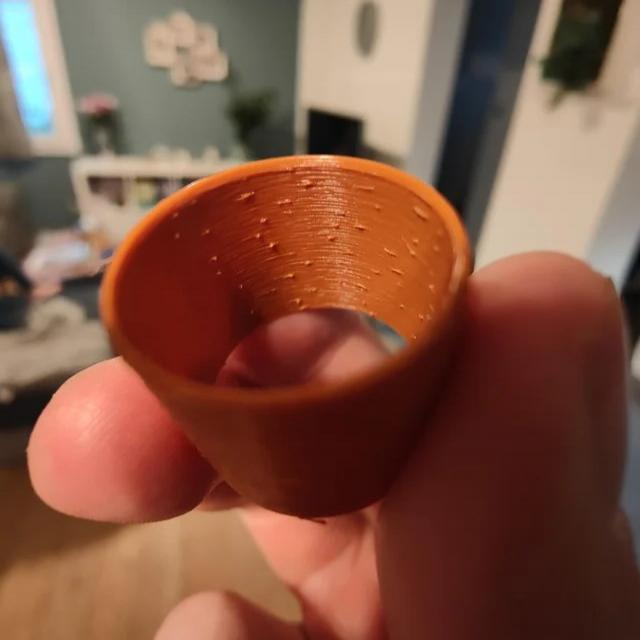zits: (408, 206, 428, 222), (255, 213, 271, 227), (329, 218, 344, 232), (238, 190, 254, 203), (298, 256, 312, 270), (413, 308, 427, 322), (300, 179, 316, 191), (408, 236, 422, 249), (324, 232, 338, 245), (170, 230, 183, 243), (200, 226, 214, 238), (207, 252, 221, 264), (358, 280, 372, 292), (282, 193, 294, 206), (389, 263, 402, 275), (253, 230, 265, 242), (371, 203, 385, 213), (282, 270, 296, 280), (266, 240, 276, 252), (352, 222, 364, 232), (337, 208, 348, 218), (398, 298, 408, 308), (292, 296, 304, 304), (408, 248, 419, 256)
